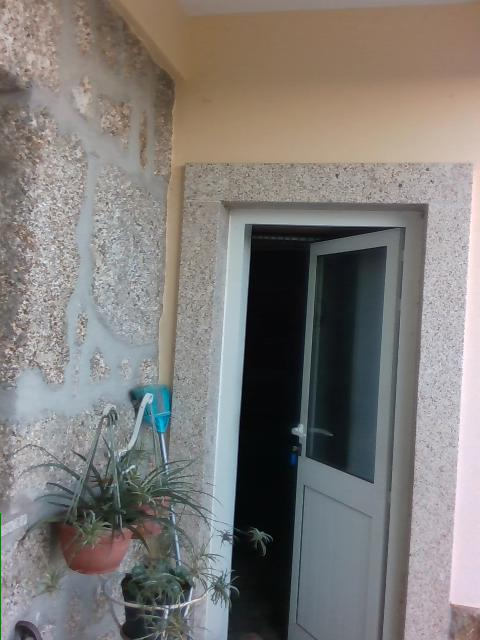semi_door: (204, 203, 423, 639)
